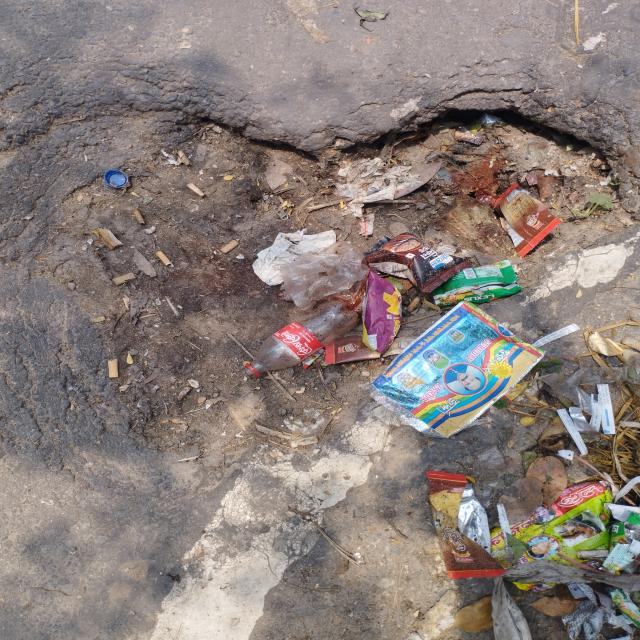plastic: (239, 302, 359, 376)
